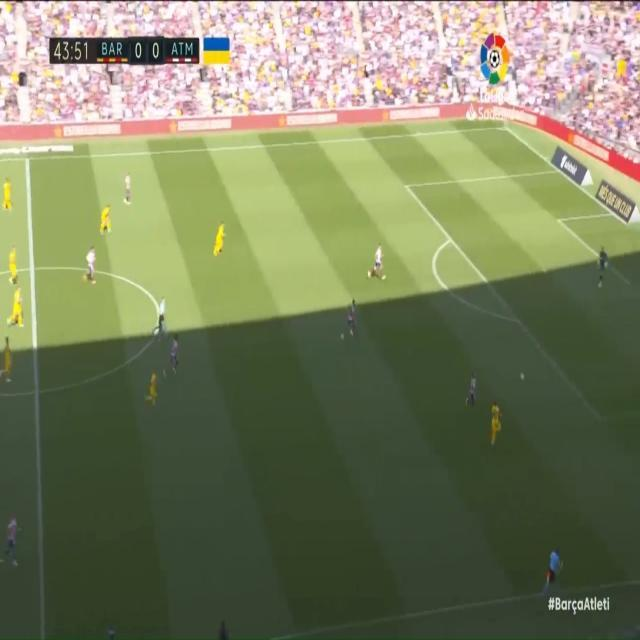ball: (515, 366, 527, 384)
goalkeeper: (595, 243, 611, 295)
player: (3, 514, 23, 574), (369, 236, 392, 286), (342, 298, 364, 342), (9, 287, 29, 329), (212, 216, 230, 262), (465, 367, 480, 415), (145, 371, 163, 409), (1, 333, 13, 388), (6, 243, 22, 282), (122, 170, 136, 214), (84, 243, 98, 286), (2, 177, 15, 219), (168, 336, 182, 373), (100, 202, 112, 240)
referee: (544, 547, 564, 592), (153, 292, 169, 337)
